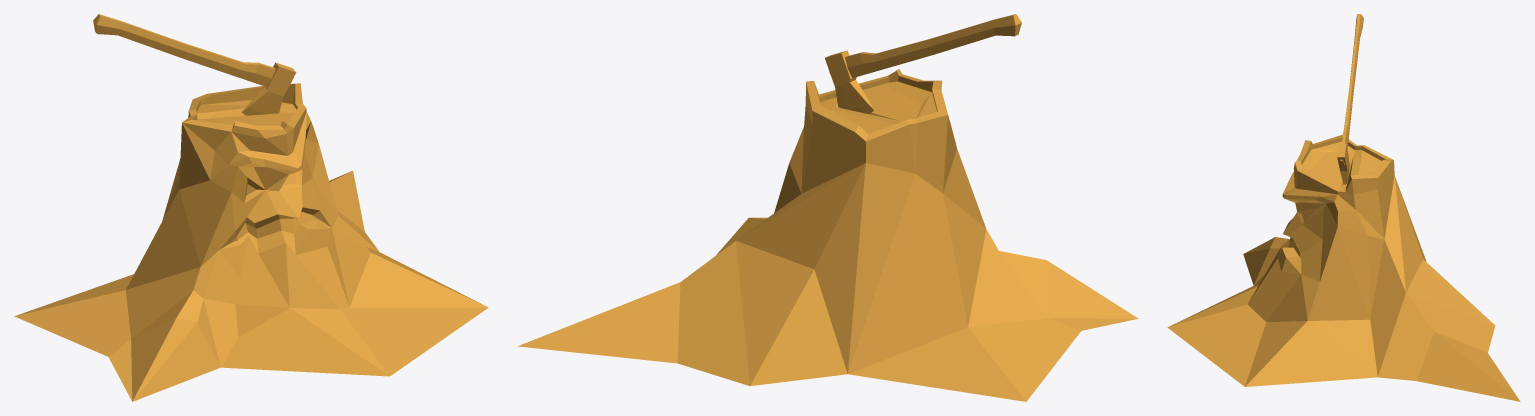
Rendered from stump-possesed.fbx.
3 renders of one model, left to right at view 1: azimuth 30°, elevation 25°; view 2: azimuth 150°, elevation 25°; view 3: azimuth 270°, elevation 25°, orthographic. The views are drawn at different scales.
Visible parts, largest first — view 1: stump-possesed; view 2: stump-possesed; view 3: stump-possesed.
Boxes of the visible parts, <box> form: stump-possesed: <box>14,14,488,401</box>; stump-possesed: <box>518,14,1138,401</box>; stump-possesed: <box>1167,14,1520,401</box>.
Bounding box in the file's own units: 1.71 × 1.31 × 1.64.
